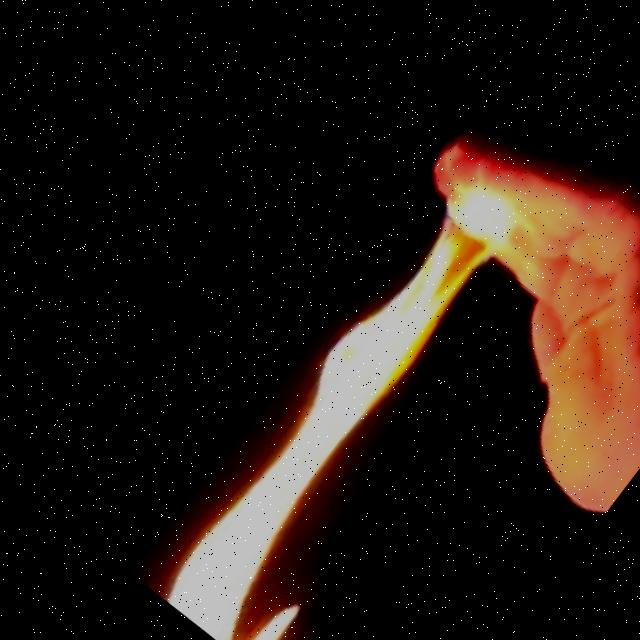Fire: (123, 139, 584, 640)
